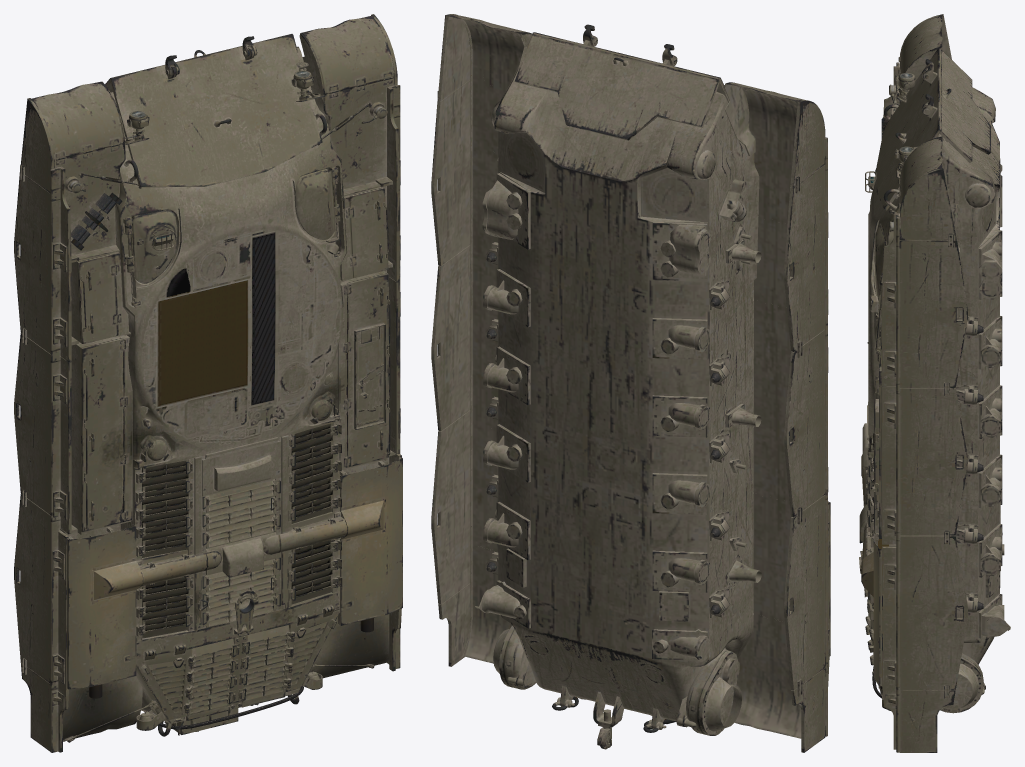
Rendered from Hull.glb.
3 renders of one model, left to right at view 1: azimuth 30°, elevation 25°; view 2: azimuth 150°, elevation 25°; view 3: azimuth 270°, elevation 25°, orthographic. The views are drawn at different scales.
Visible parts, largest first — view 1: set_0_group_0; view 2: set_0_group_0; view 3: set_0_group_0.
Boxes of the visible parts, left/top/right/bottom form: set_0_group_0: left=14, top=14, right=402, bottom=752; set_0_group_0: left=431, top=14, right=830, bottom=752; set_0_group_0: left=859, top=14, right=1010, bottom=752.
Size of the model in its own units: 3.61 by 6.66 by 1.48.
Materials: 1 (1 with a texture image).
